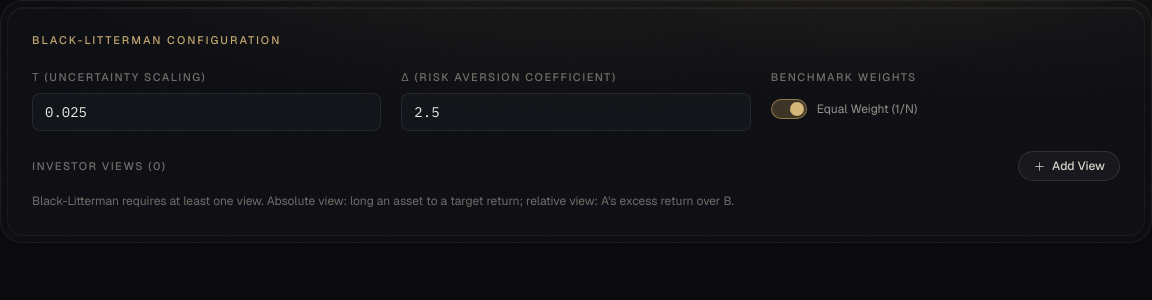
Test: BLConfigPanel › reveals the excess-return field for relative views
The width and height of the screenshot is (1152, 300).
Click the button "Add View": click(1069, 166) [1018, 151, 1120, 181]
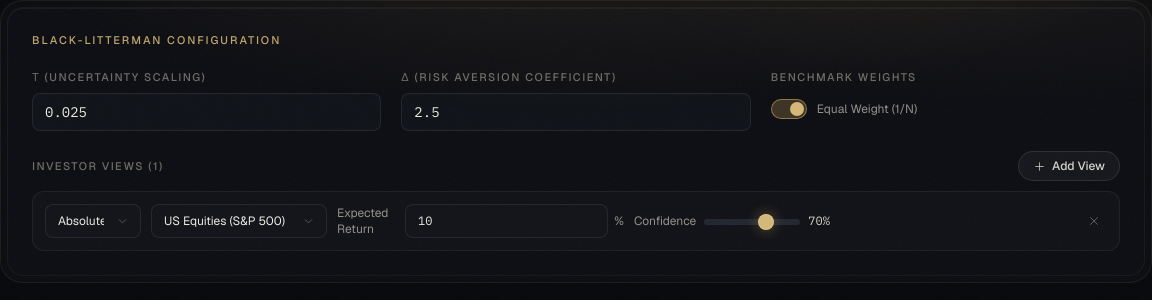
Select "Relative" in the dropdown named "View type": (93, 221) [45, 204, 141, 238]
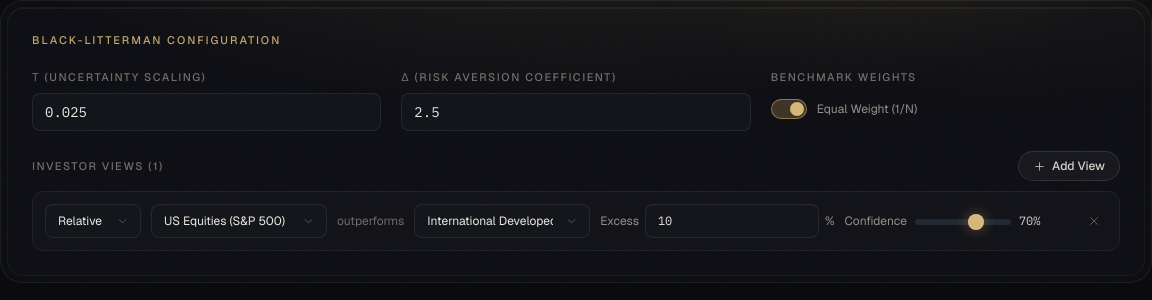
Now the dropdown named "Short asset" is shown, box [414, 204, 590, 238]
